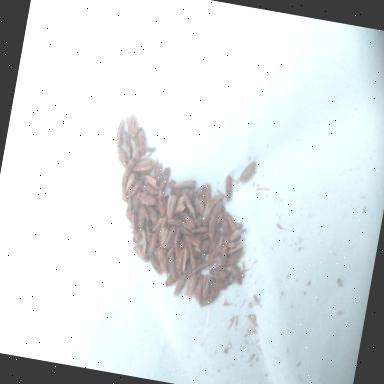pbw: (172, 234, 190, 273), (178, 189, 200, 219), (186, 182, 206, 214), (188, 236, 210, 264), (198, 285, 220, 311), (237, 159, 257, 187), (181, 252, 204, 276), (225, 245, 247, 270), (118, 130, 136, 160), (130, 240, 152, 264), (122, 111, 140, 139), (126, 137, 146, 162), (120, 155, 136, 186), (172, 216, 198, 235), (132, 156, 156, 176), (150, 154, 165, 186), (134, 126, 150, 154), (154, 189, 170, 217), (146, 254, 166, 276), (176, 209, 198, 229), (206, 242, 222, 269), (129, 193, 143, 223), (184, 243, 200, 269), (166, 178, 186, 198), (184, 272, 198, 300), (158, 166, 172, 194), (218, 238, 231, 268), (114, 118, 127, 148), (174, 176, 198, 192), (128, 176, 144, 200), (164, 268, 182, 289), (208, 265, 230, 282), (156, 214, 169, 242), (204, 214, 218, 240), (114, 148, 132, 168), (182, 234, 202, 252), (132, 224, 148, 246), (136, 191, 158, 207), (218, 216, 234, 238), (164, 192, 178, 216), (228, 264, 244, 285), (141, 219, 155, 243), (170, 230, 182, 258), (166, 254, 180, 278), (172, 274, 186, 298), (208, 276, 230, 291), (201, 201, 214, 226), (146, 231, 158, 258), (222, 174, 234, 201), (144, 204, 160, 224), (141, 173, 161, 189), (200, 274, 212, 300), (193, 274, 205, 300), (192, 195, 207, 215), (139, 182, 160, 196), (228, 240, 245, 257), (209, 200, 223, 220), (124, 172, 136, 194), (136, 206, 148, 228), (158, 228, 170, 248), (202, 182, 212, 205), (228, 228, 242, 244), (194, 229, 211, 242), (191, 224, 209, 236), (226, 216, 239, 232)
